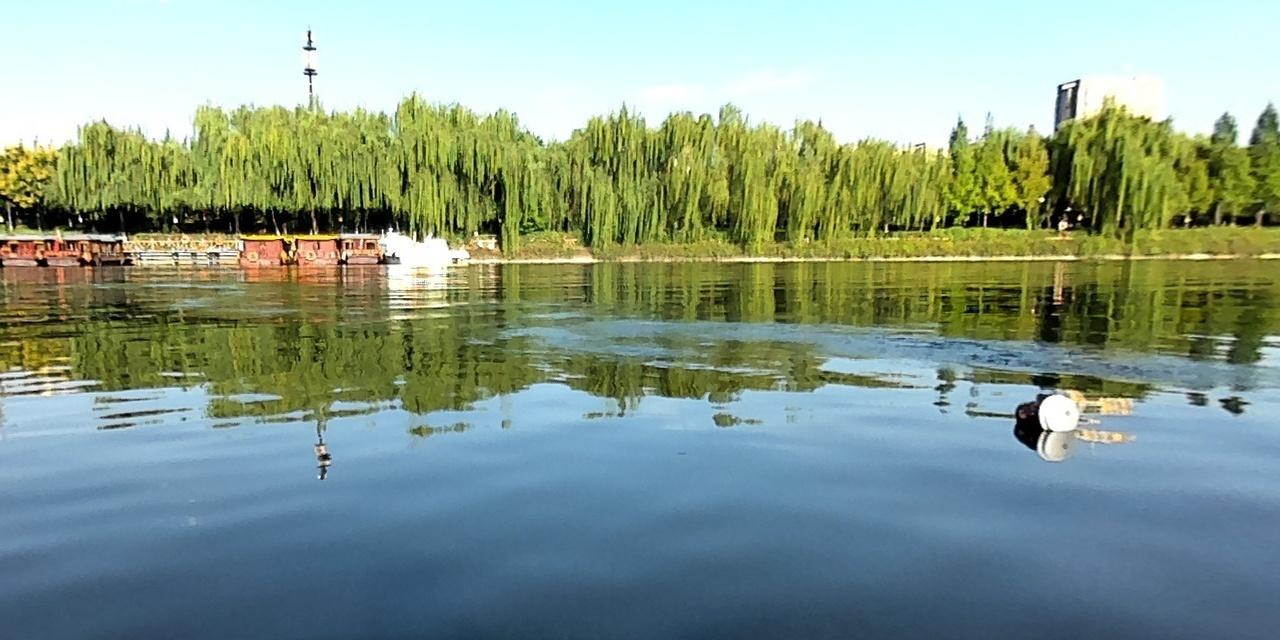bottle: (1011, 387, 1082, 432)
